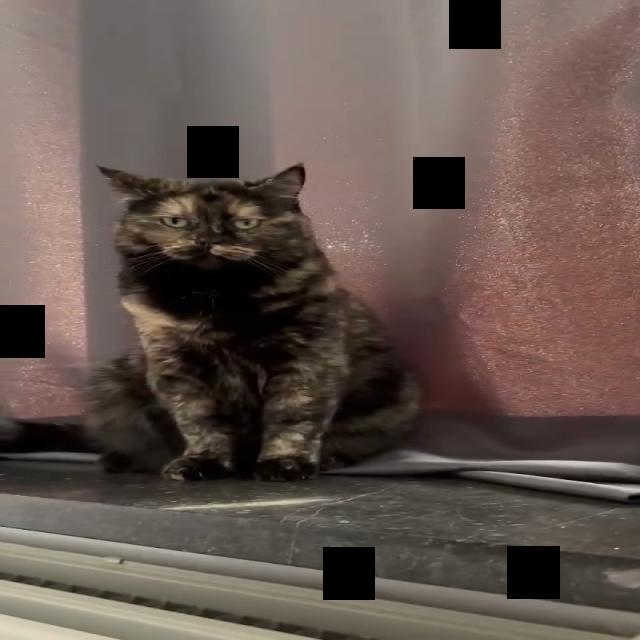authorized: (81, 162, 423, 482)
